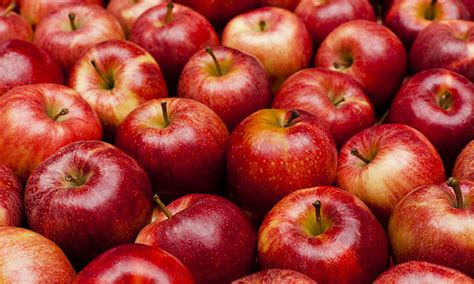apple: (22, 136, 149, 245), (257, 184, 392, 281), (114, 93, 235, 184), (132, 191, 257, 278), (328, 121, 442, 206), (1, 80, 101, 171), (233, 105, 336, 189), (386, 172, 474, 269), (68, 37, 160, 125), (312, 18, 407, 102), (277, 65, 377, 138), (220, 5, 313, 81), (389, 64, 474, 147), (177, 44, 274, 116), (129, 2, 217, 67), (34, 4, 125, 62)
